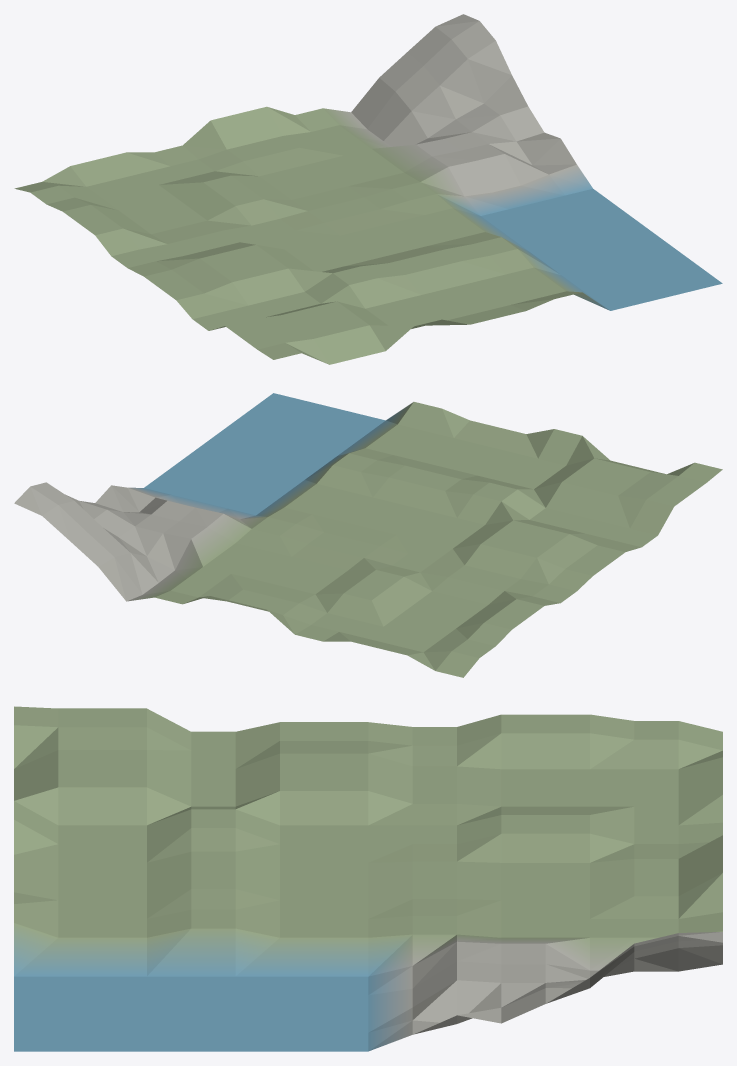
The picture shows the model from 3 angles, top to bottom: view 1: azimuth 30°, elevation 25°; view 2: azimuth 150°, elevation 25°; view 3: azimuth 270°, elevation 25°; orthographic projection. The views are drawn at different scales.
Size of the model in its own units: 32 by 5.76 by 32.
